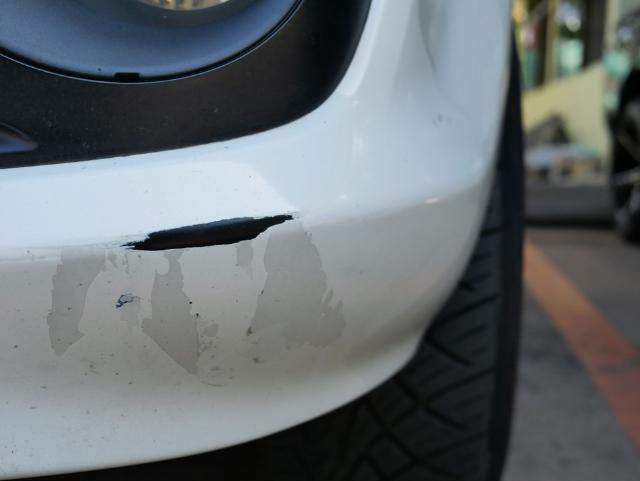Bumper: (55, 182, 365, 317)
